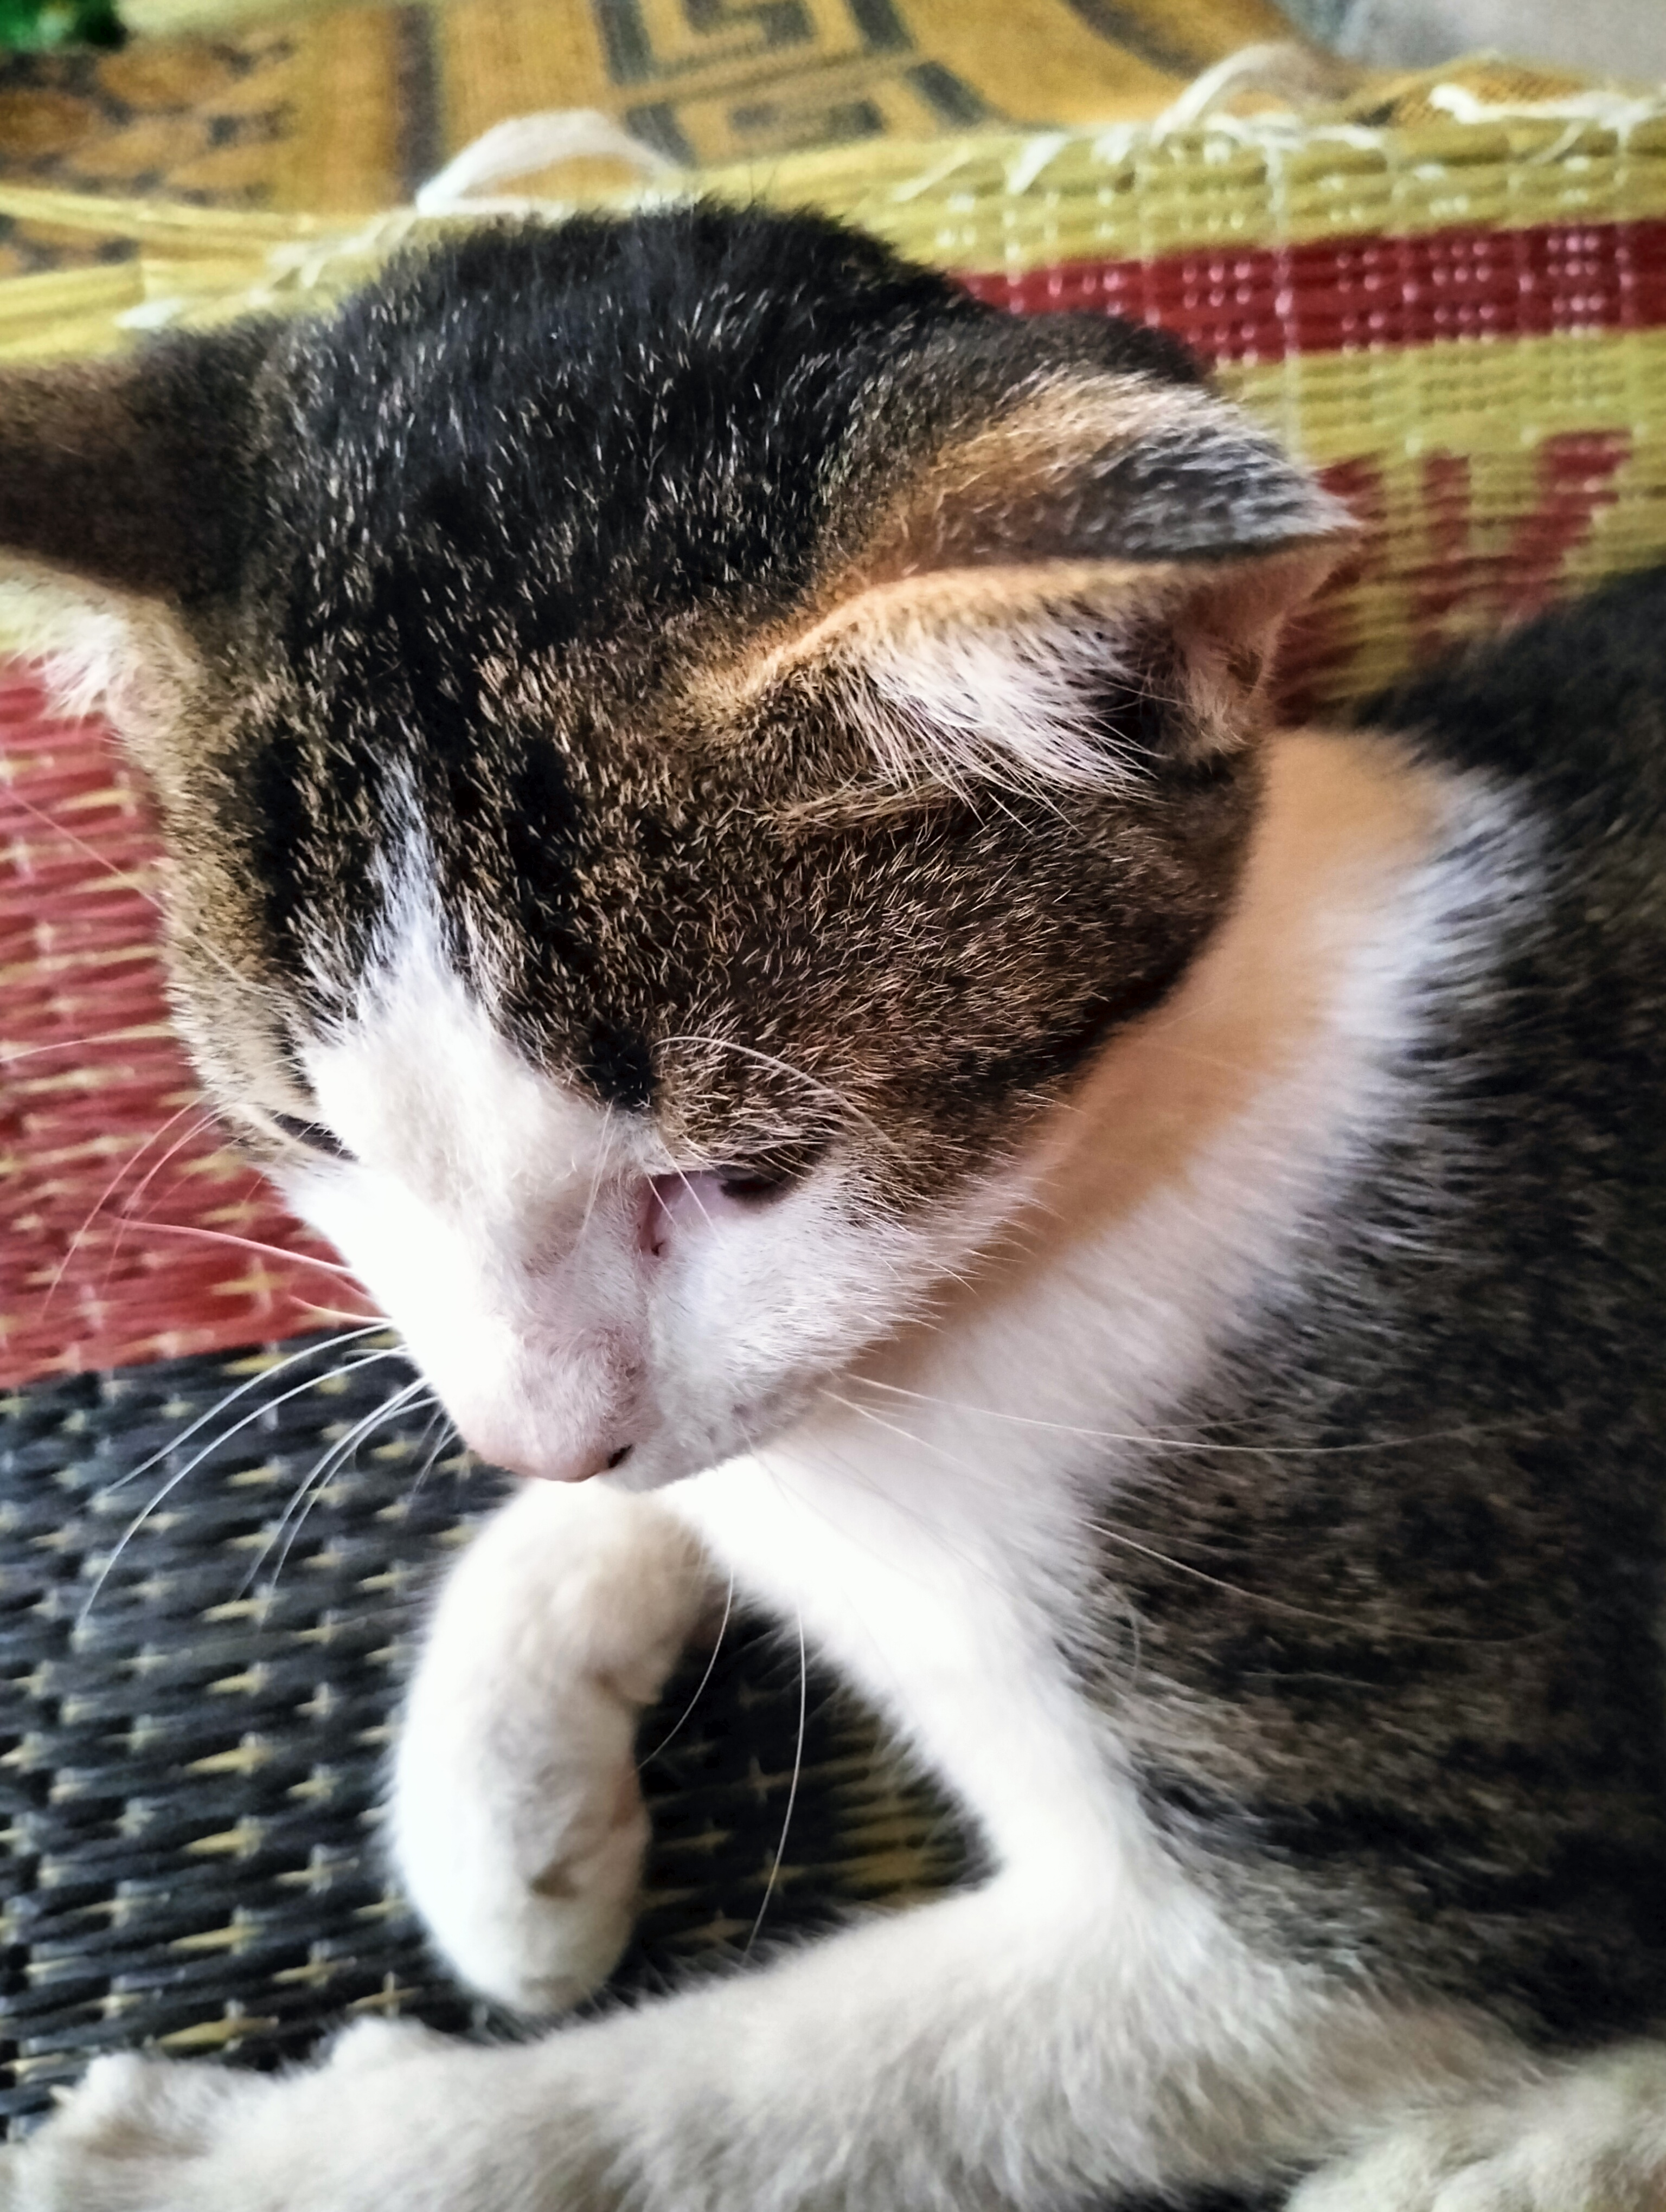miki: (31, 115, 1434, 1623)
